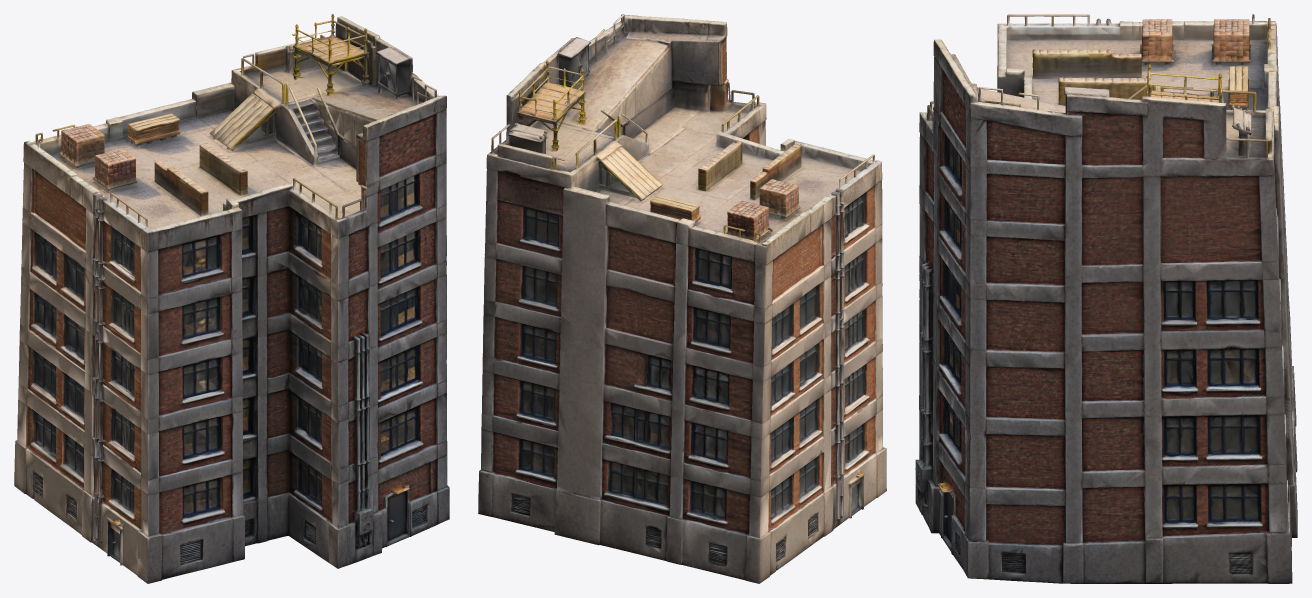
File: roof-06.glb
3 views of the same model, side by side, from view 1: azimuth 30°, elevation 25°; view 2: azimuth 150°, elevation 25°; view 3: azimuth 270°, elevation 25° (orthographic). The views are drawn at different scales.
Visible parts, largest first — view 1: tripo_node_159c54ec-b02b-4b99-862e-d030beb6342e; view 2: tripo_node_159c54ec-b02b-4b99-862e-d030beb6342e; view 3: tripo_node_159c54ec-b02b-4b99-862e-d030beb6342e.
Boxes of the visible parts, left/top/right/bottom form: tripo_node_159c54ec-b02b-4b99-862e-d030beb6342e: left=14, top=14, right=449, bottom=583; tripo_node_159c54ec-b02b-4b99-862e-d030beb6342e: left=478, top=14, right=886, bottom=583; tripo_node_159c54ec-b02b-4b99-862e-d030beb6342e: left=915, top=14, right=1297, bottom=583.
Bounding box in the file's own units: 0.7195 × 0.9802 × 0.6869.
Materials: 1 (1 with a texture image).
